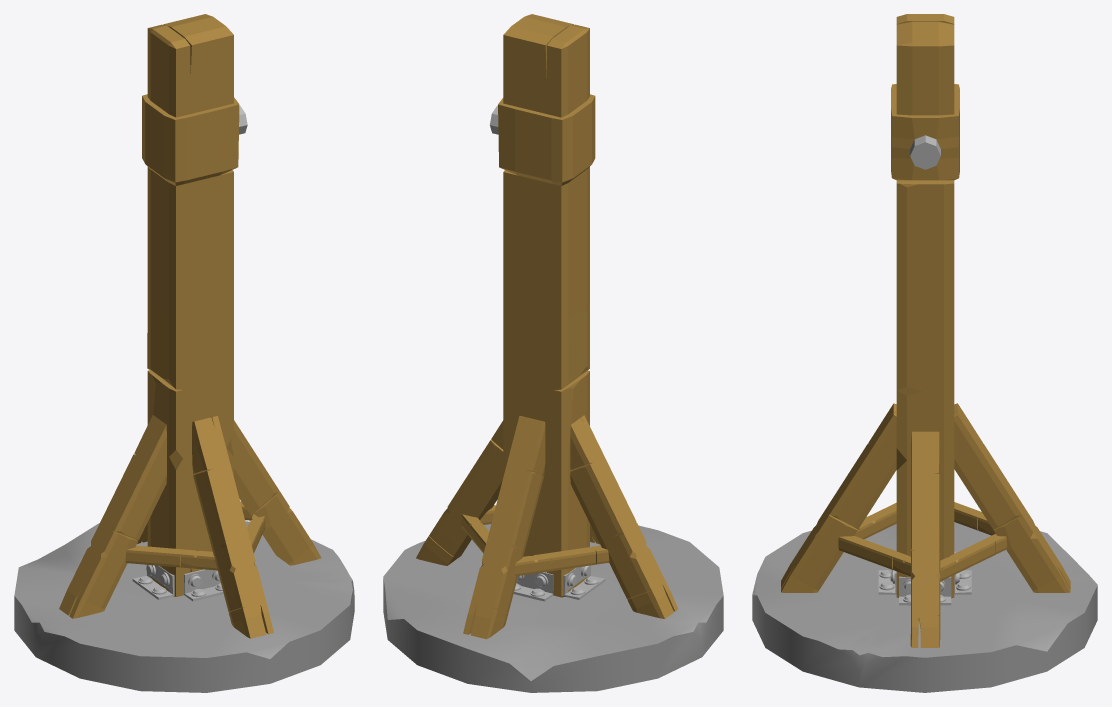
3 views of the same model, side by side, from view 1: azimuth 30°, elevation 25°; view 2: azimuth 150°, elevation 25°; view 3: azimuth 270°, elevation 25° (orthographic).
Visible parts, largest first — view 1: Cube.058, Cube.149, Cube.147, Cube.057; view 2: Cube.058, Cube.149, Cube.147, Cube.057; view 3: Cube.149, Cube.058, Cube.147, Cube.057.
Part boxes in pixels (bbox=[...]): Cube.058: bbox=[142, 14, 247, 596]; Cube.149: bbox=[14, 521, 354, 692]; Cube.147: bbox=[59, 415, 321, 638]; Cube.057: bbox=[132, 564, 223, 601]; Cube.058: bbox=[490, 14, 595, 597]; Cube.149: bbox=[383, 524, 723, 692]; Cube.147: bbox=[416, 415, 678, 639]; Cube.057: bbox=[513, 565, 605, 601]; Cube.149: bbox=[752, 516, 1097, 692]; Cube.058: bbox=[891, 14, 959, 598]; Cube.147: bbox=[781, 403, 1070, 647]; Cube.057: bbox=[878, 551, 971, 605].
Size of the model in its own units: 220 by 417 by 220.
